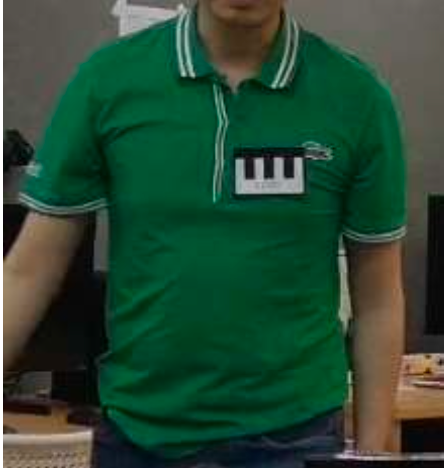Staff: (229, 145, 312, 199)
